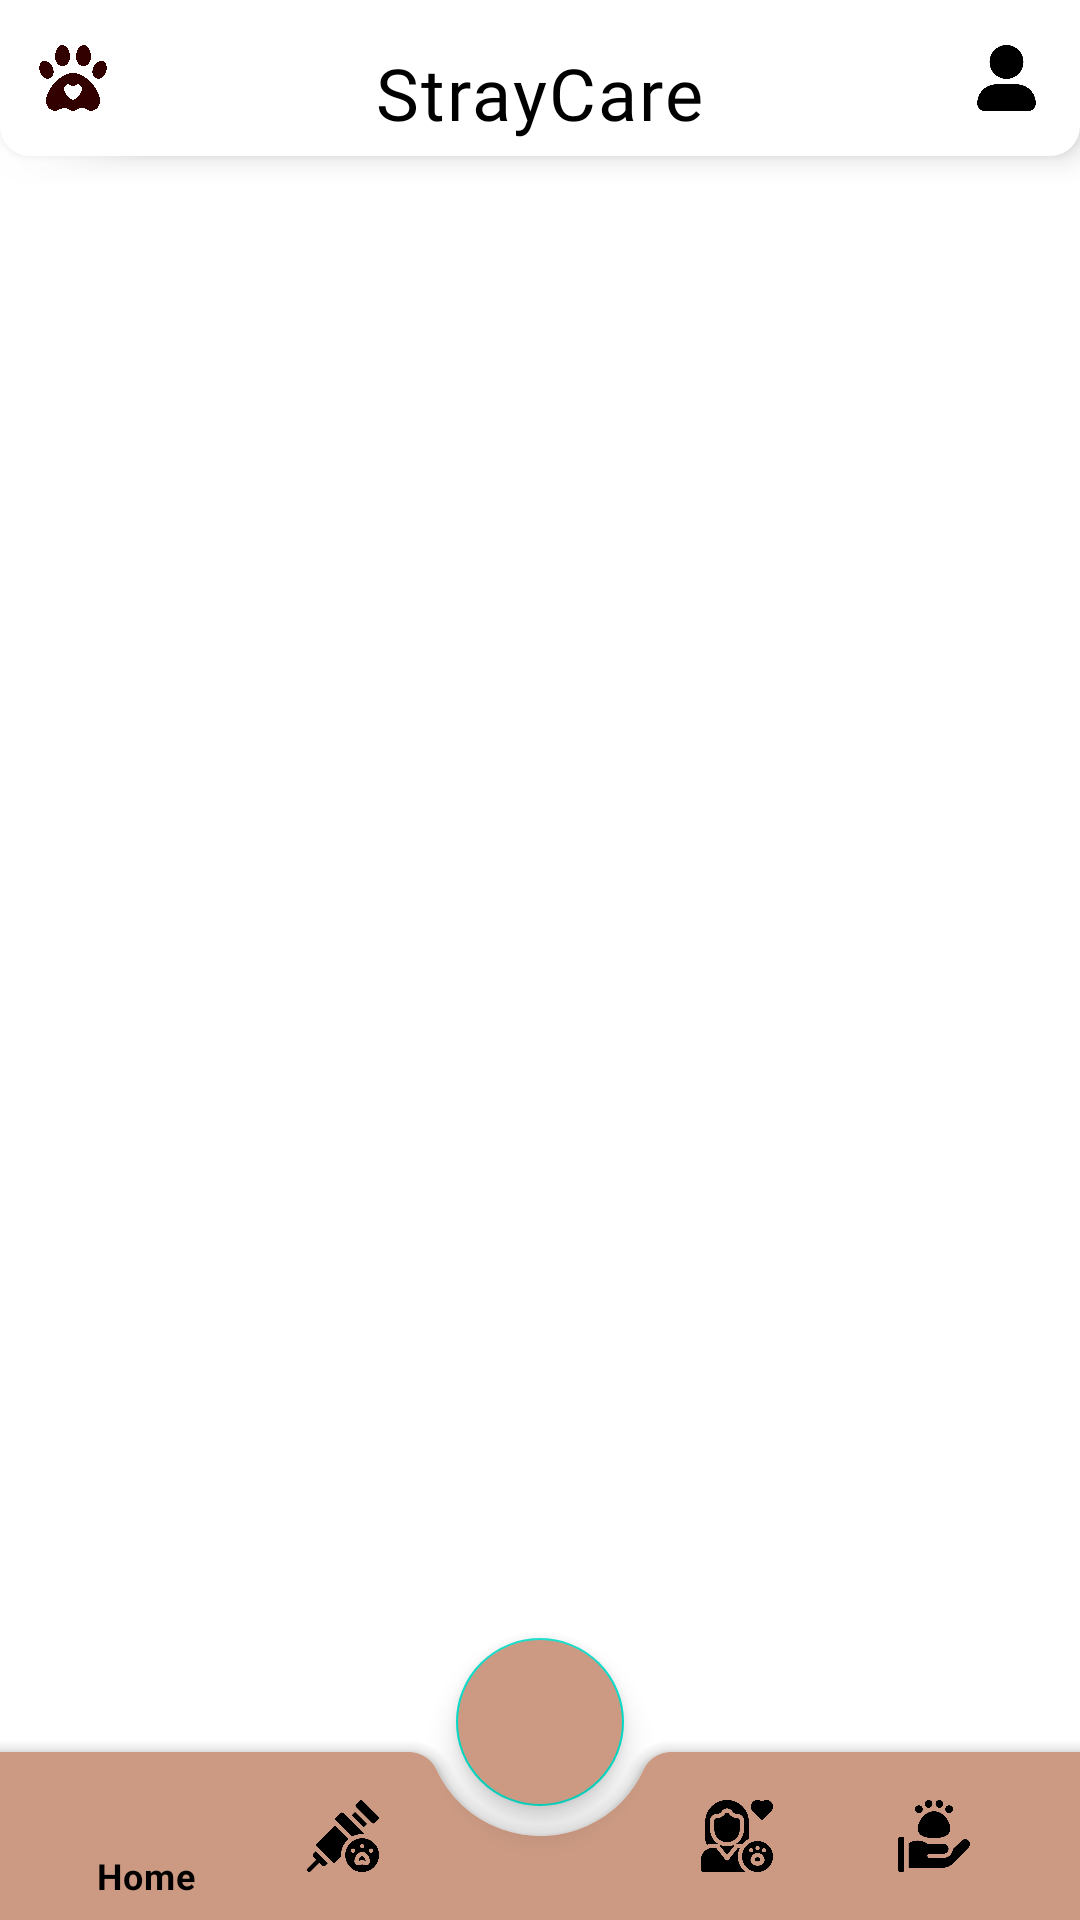

Locate icon controls on the screen. Image size 1080 x 1920, boxes as Rect(x1, y1, x2, y2).
user: Rect(977, 45, 1036, 111)
